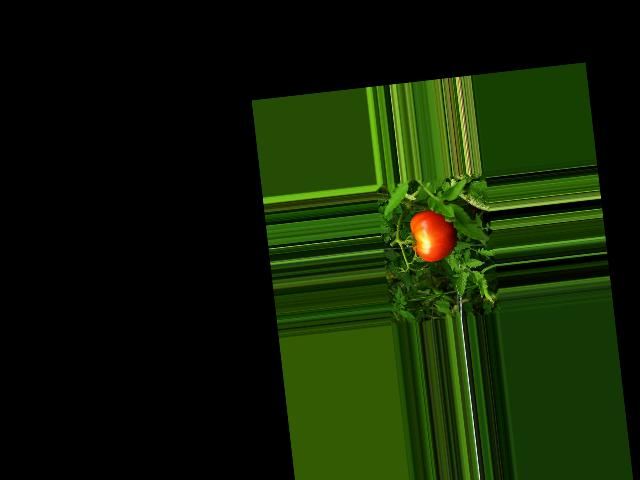tomato: (408, 208, 459, 263)
